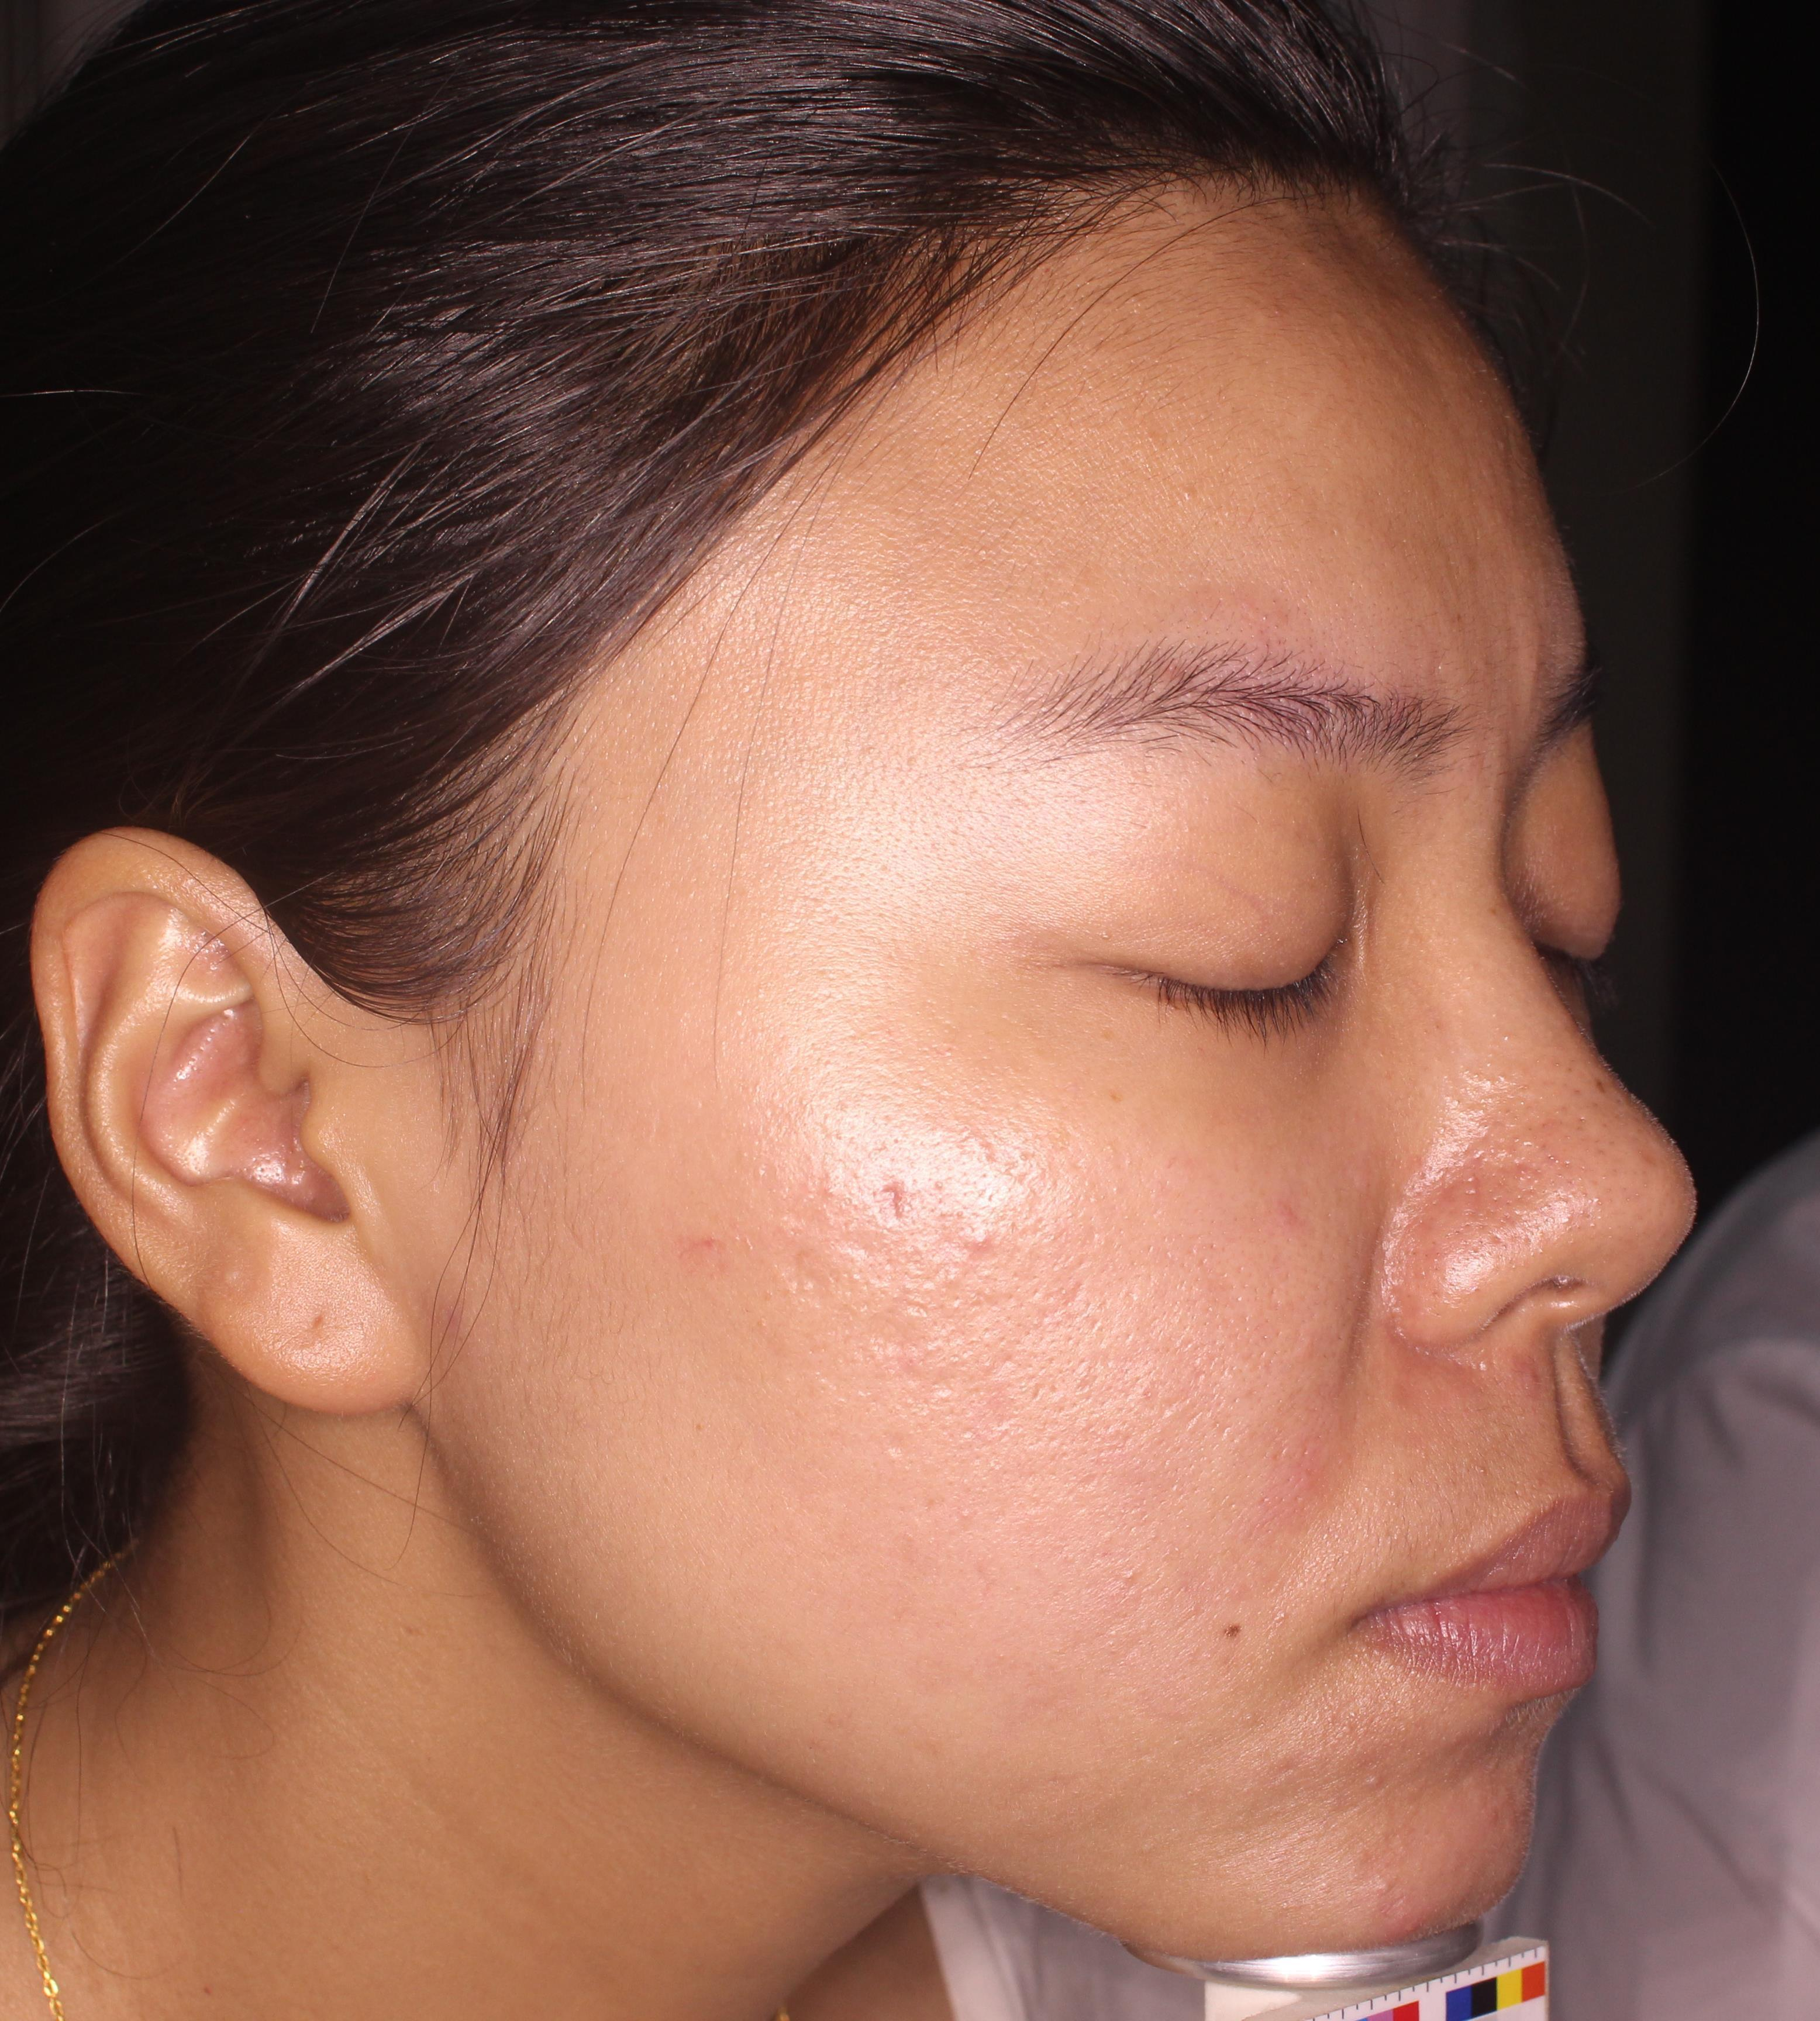fore: (1346, 1849, 1441, 1921)
